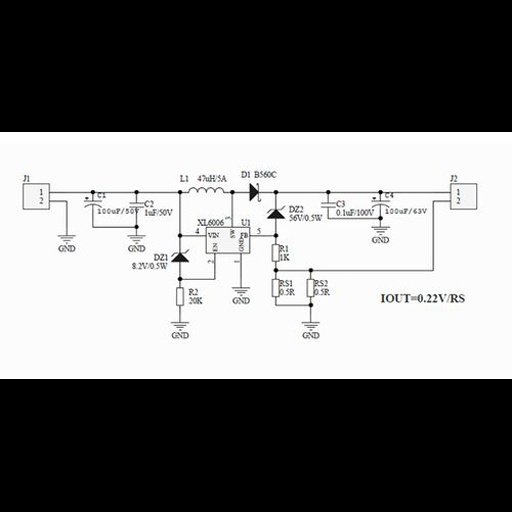capacitor: (319, 199, 337, 210), (128, 199, 145, 209)
firstpolarcapacitor: (371, 195, 392, 209), (82, 196, 104, 209)
firstresistance: (174, 285, 185, 308), (270, 278, 280, 300), (271, 241, 280, 265), (305, 278, 314, 299)
gnd: (229, 286, 253, 297), (371, 224, 393, 236), (125, 233, 148, 244), (171, 319, 190, 332), (56, 234, 79, 244), (300, 321, 323, 331)
inductor: (184, 184, 228, 198)
